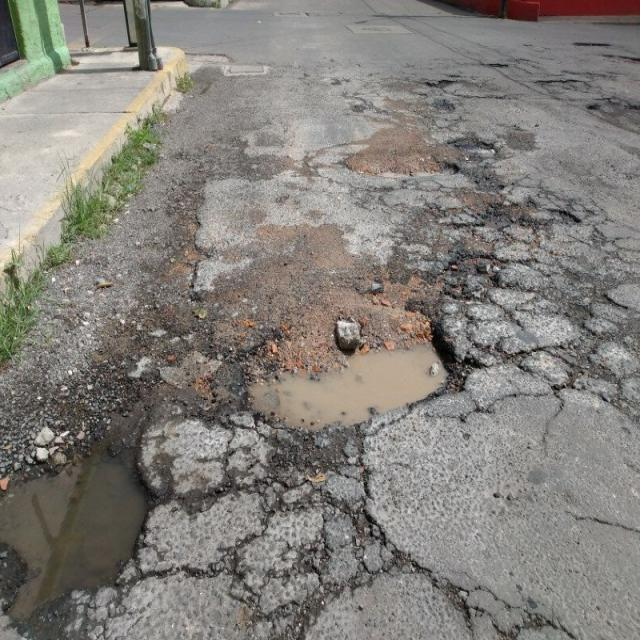pothole: (172, 122, 555, 481), (0, 394, 198, 609), (495, 30, 640, 117)
